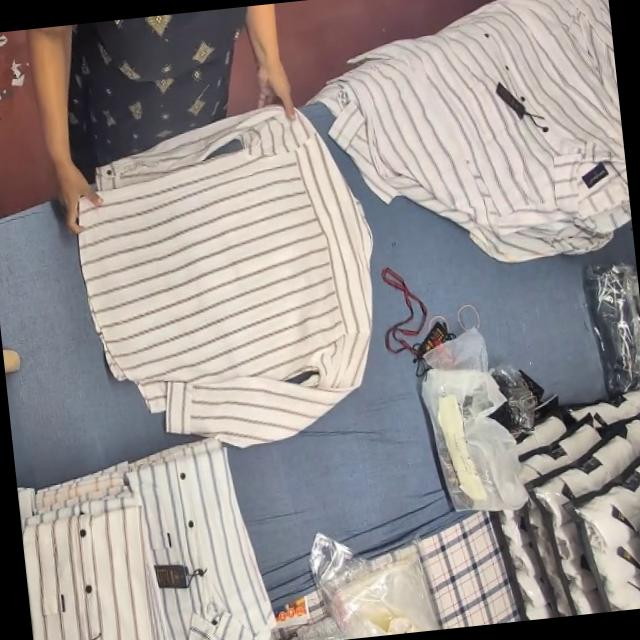new-garment: (78, 107, 371, 445)
